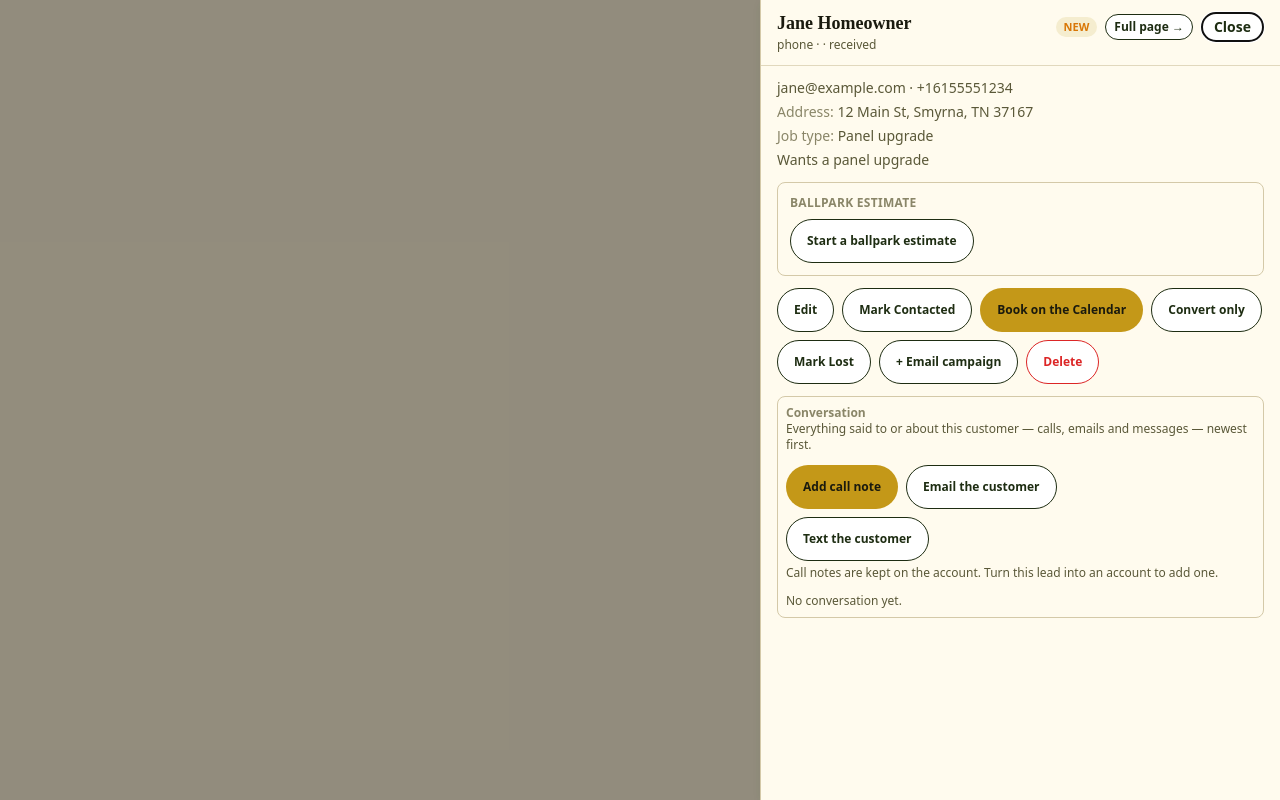
LeadDrawer — the note a conversion leaves on the account › Convert only: the drawer's Conversation reads again and shows the 'From the lead:' note without a reload
The width and height of the screenshot is (1280, 800).
expect the text "From the lead:" is not shown: met
Click the button "Convert only": (1207, 310) [1151,288,1262,332]
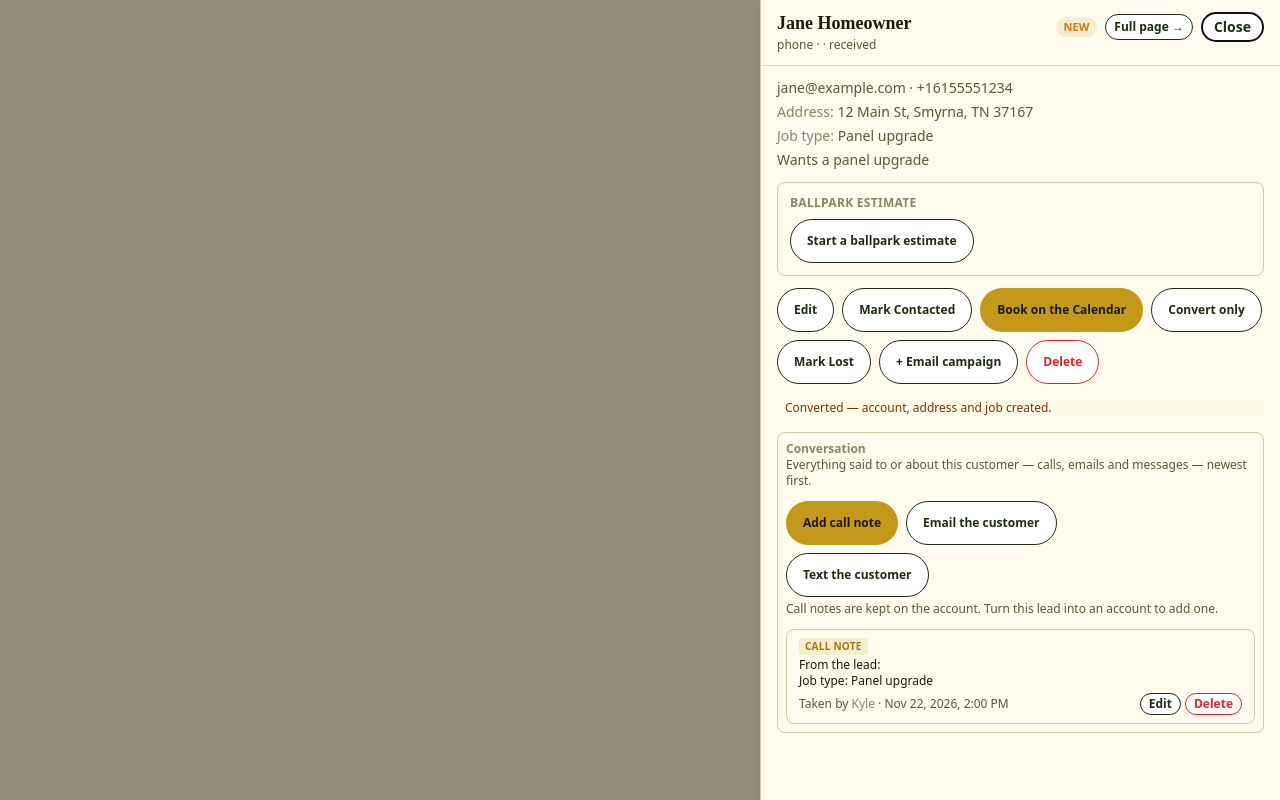
expect the text "From the lead: Job type: Panel upgrade" is shown: met, box [799,656,933,689]
